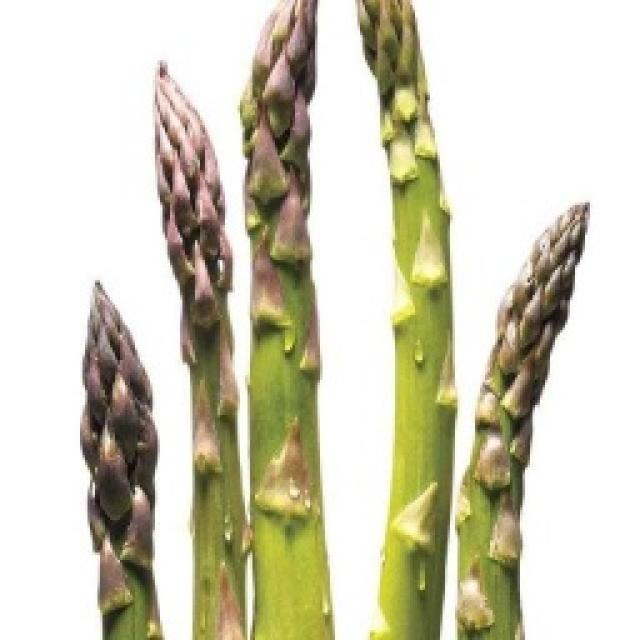Asparagus spear: (236, 0, 358, 628), (351, 0, 450, 640), (152, 40, 251, 609), (479, 207, 598, 640), (45, 238, 152, 620)
